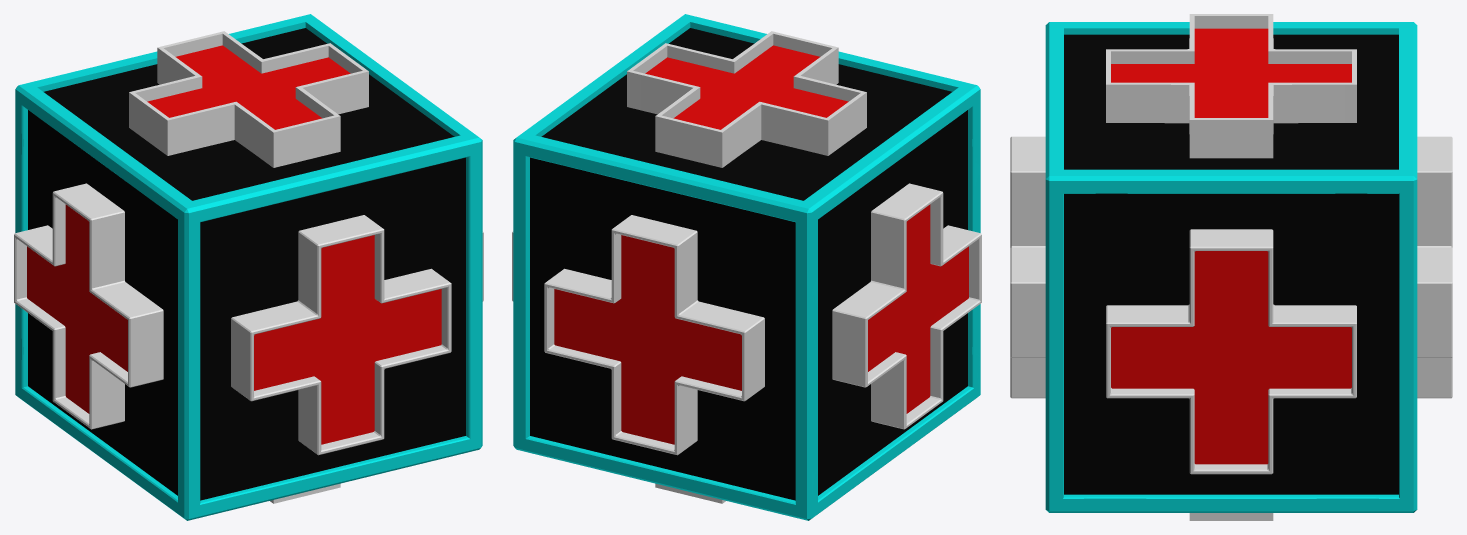
The model's file is healthbox.fbx.
3 renders of one model, left to right at view 1: azimuth 30°, elevation 25°; view 2: azimuth 150°, elevation 25°; view 3: azimuth 270°, elevation 25°, orthographic. The views are drawn at different scales.
Parts seen in each view (by area): view 1: HEALTHBOX; view 2: HEALTHBOX; view 3: HEALTHBOX.
Boxes of the visible parts, box(x1,y1,x2,y2) form: HEALTHBOX: box(14, 14, 483, 520); HEALTHBOX: box(512, 14, 981, 520); HEALTHBOX: box(1010, 14, 1452, 520).
Bounding box in the file's own units: 9.37 × 9.37 × 9.37.
